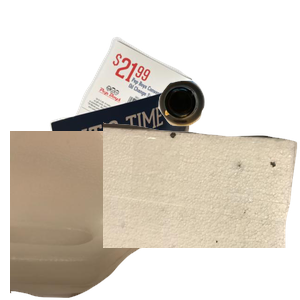glass: (156, 78, 300, 197)
paper: (45, 34, 230, 214)
plastic: (10, 131, 196, 300)
trash: (103, 120, 300, 300)
